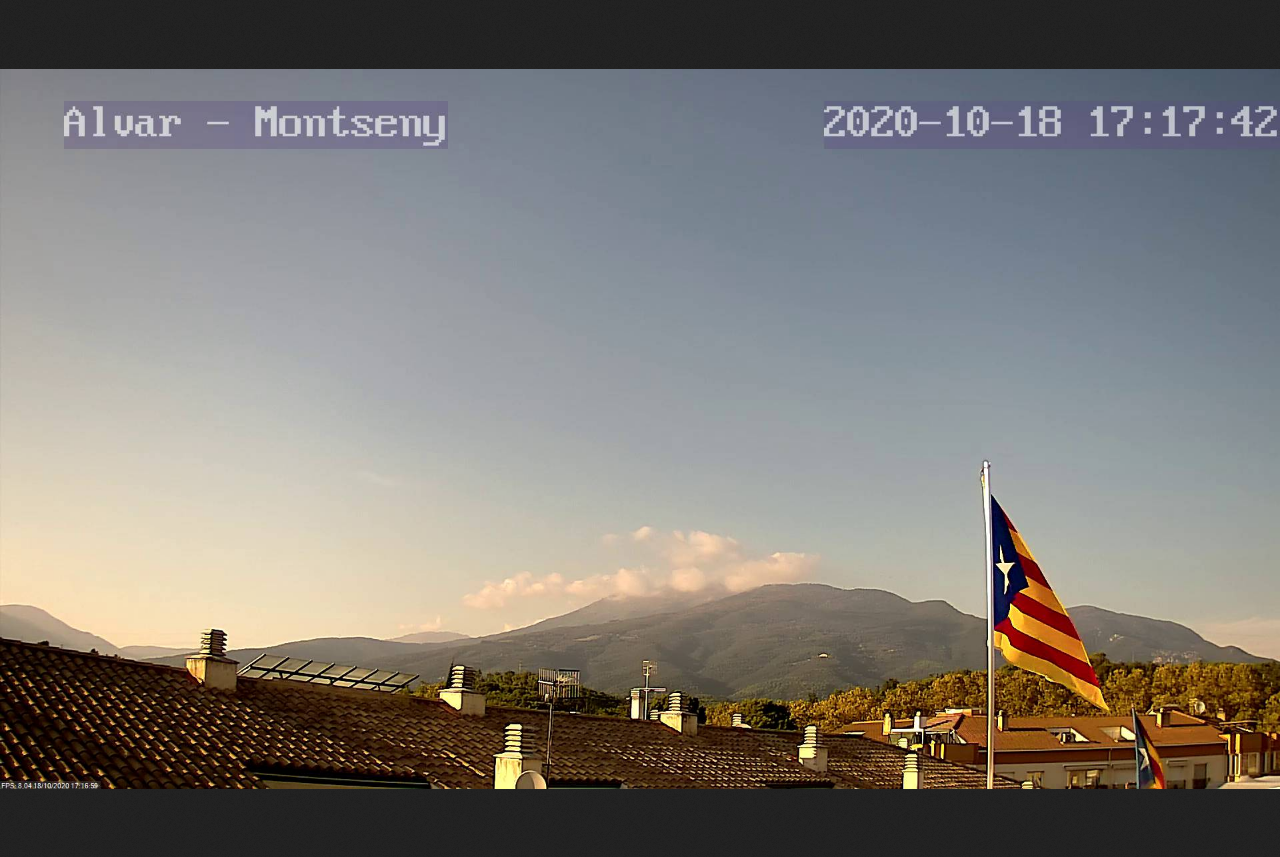no: (974, 481, 1122, 728)
